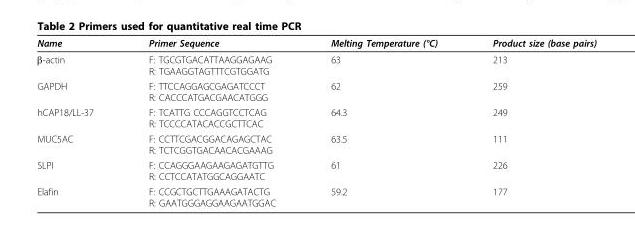table: (36, 36, 595, 207)
table column: (120, 36, 302, 207), (302, 36, 464, 207), (464, 36, 595, 207), (36, 36, 120, 207)
table column header: (36, 36, 595, 50)
table row: (36, 50, 595, 78), (36, 130, 595, 157), (36, 78, 595, 104), (36, 104, 595, 130), (36, 157, 595, 183), (36, 183, 595, 207), (36, 36, 595, 50)
